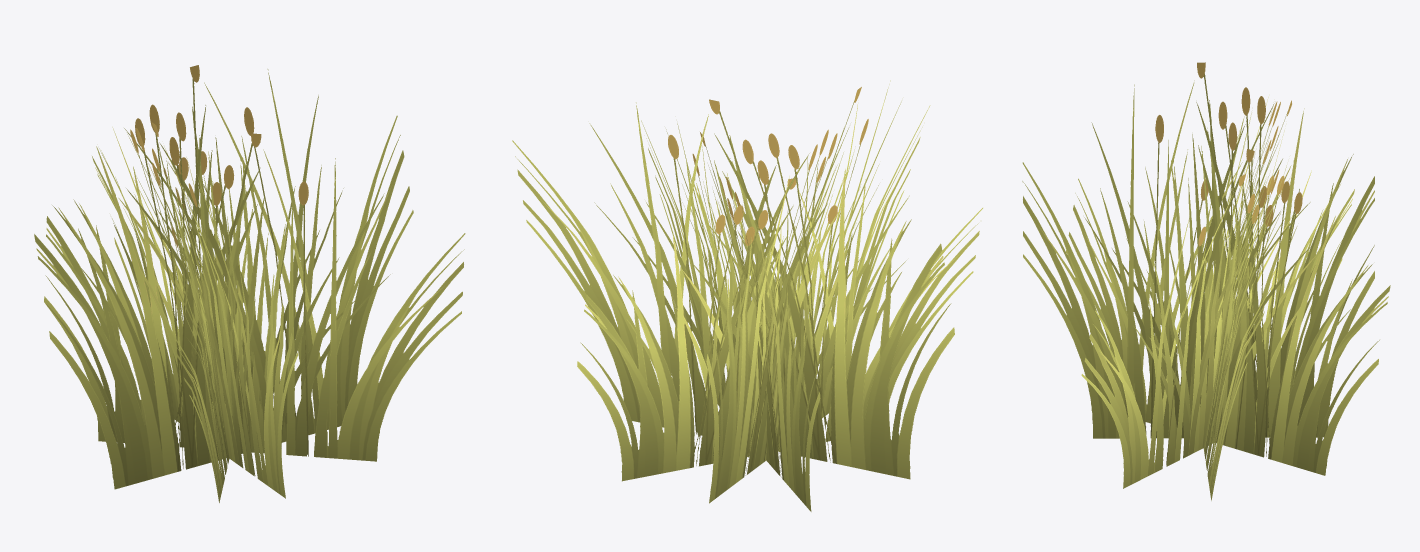
File: savanna_grass_2.glb
The picture shows the model from 3 angles, left to right: view 1: azimuth 30°, elevation 25°; view 2: azimuth 150°, elevation 25°; view 3: azimuth 270°, elevation 25°; orthographic projection. The views are drawn at different scales.
Visible parts, largest first — view 1: savanna_grass_2; view 2: savanna_grass_2; view 3: savanna_grass_2.
Boxes of the visible parts, x1,y1,x2,y2 form: savanna_grass_2: (34,65,465,502); savanna_grass_2: (512,80,982,511); savanna_grass_2: (1022,62,1390,500).
Bounding box in the file's own units: 0.9058 × 0.8003 × 0.8105.
1 material, 1 textured.
